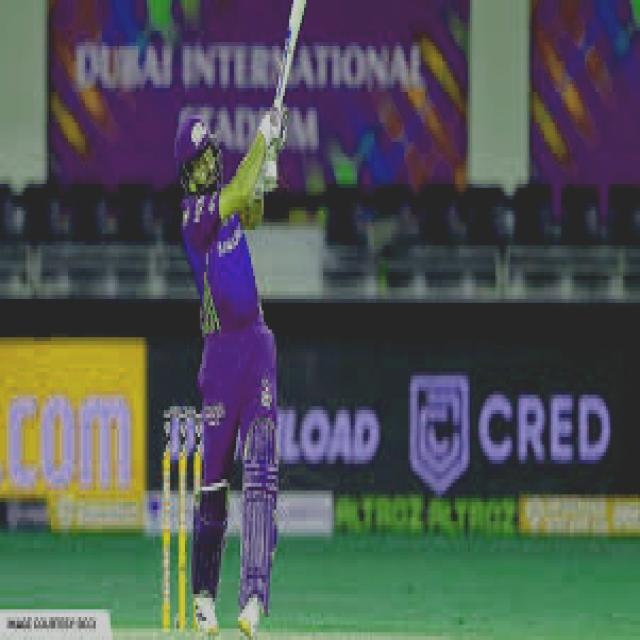toe: (288, 0, 316, 11)
